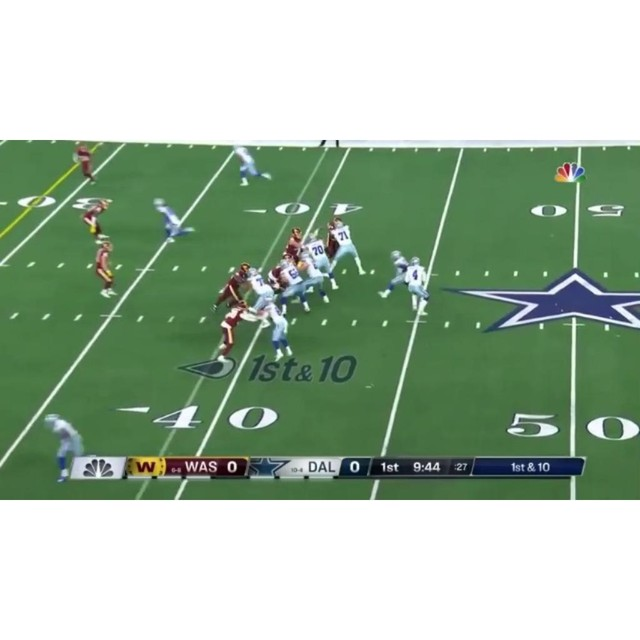american-football-player: (43, 412, 84, 482), (211, 301, 258, 361), (256, 297, 294, 363), (330, 219, 368, 276), (210, 264, 251, 314), (153, 197, 196, 243), (278, 258, 312, 314), (306, 233, 339, 290), (298, 252, 330, 305), (233, 144, 273, 186), (404, 256, 432, 315), (378, 249, 411, 299), (93, 240, 119, 298), (246, 266, 275, 312), (81, 199, 111, 242), (73, 142, 98, 185), (282, 227, 304, 264)
